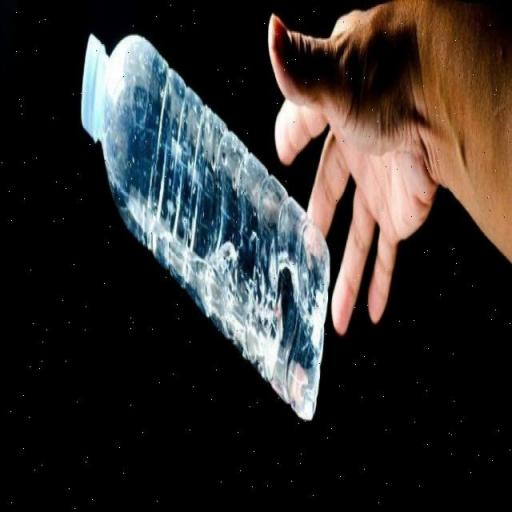plastic: (78, 28, 332, 422)
